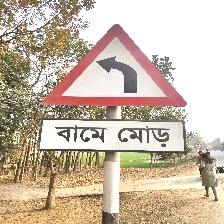Left-Turn: (35, 21, 189, 152)
